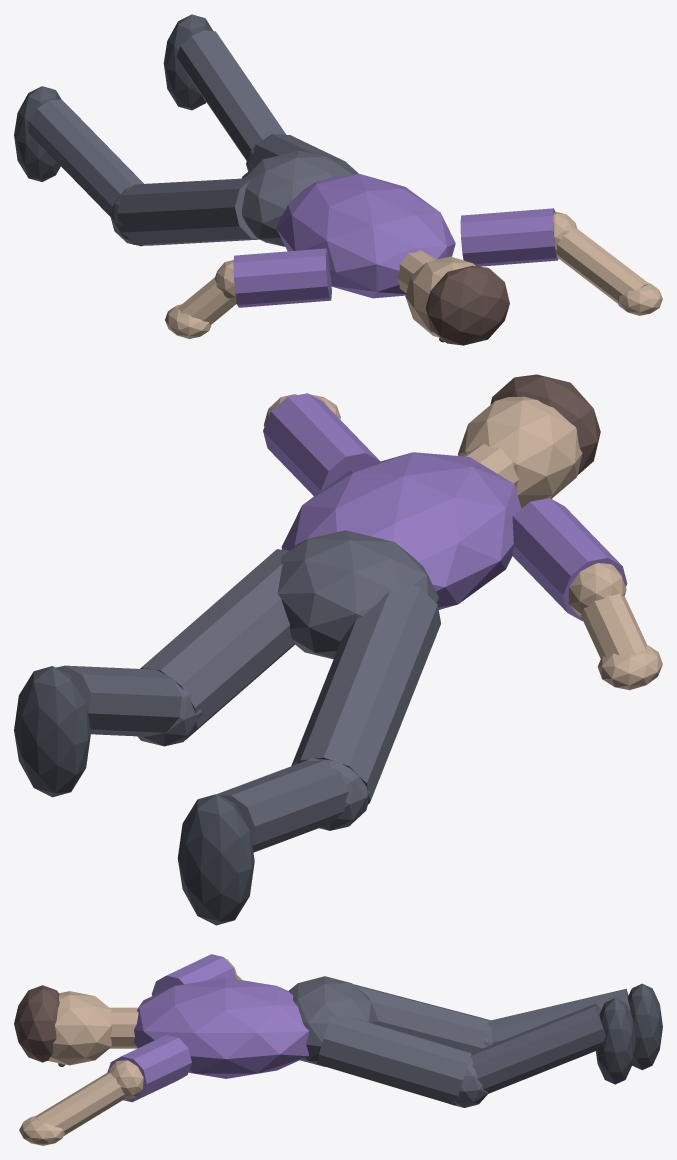
3 renders of one model, top to bottom at view 1: azimuth 30°, elevation 25°; view 2: azimuth 150°, elevation 25°; view 3: azimuth 270°, elevation 25°, orthographic. The views are drawn at different scales.
Visible parts, largest first — view 1: world; view 2: world; view 3: world.
Boxes of the visible parts, bbox=[...] form: world: bbox=[14, 14, 662, 345]; world: bbox=[14, 374, 662, 925]; world: bbox=[14, 954, 662, 1145].
Bounding box in the file's own units: 1.25 × 0.4556 × 2.04.
